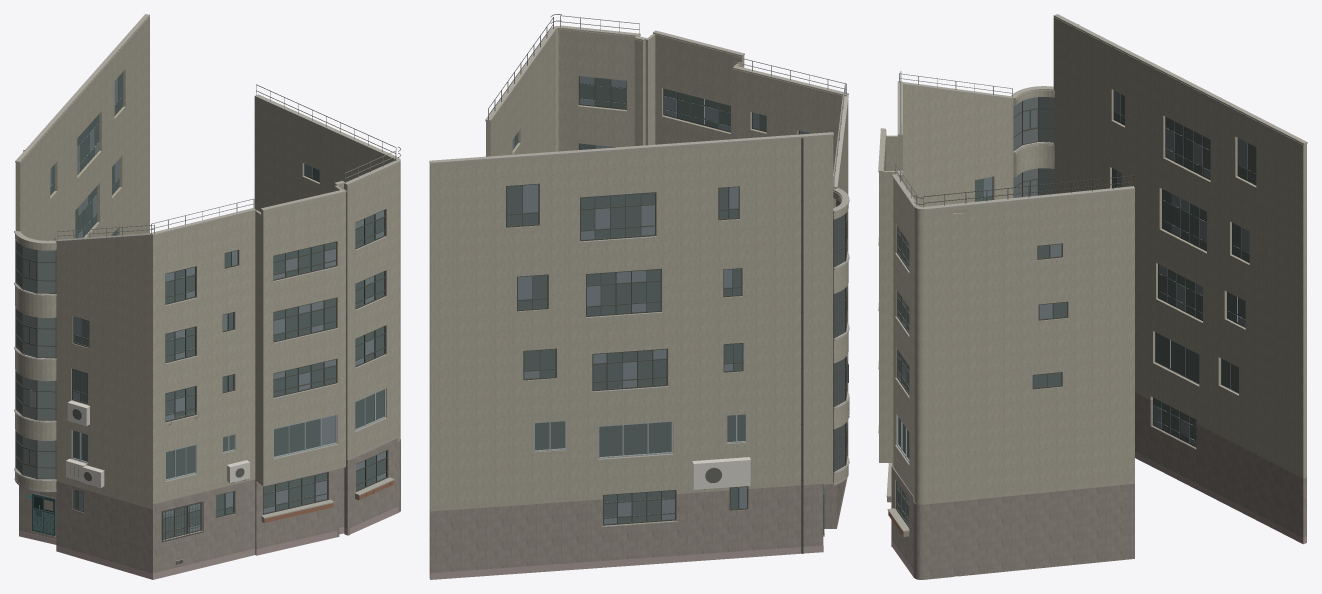
The model's file is map-front-lod.glb.
3 views of the same model, side by side, from view 1: azimuth 30°, elevation 25°; view 2: azimuth 150°, elevation 25°; view 3: azimuth 270°, elevation 25° (orthographic). The views are drawn at different scales.
Visible parts, largest first — view 1: 湖南路280弄2号五层住宅临街窗墙与弧窗; view 2: 湖南路280弄2号五层住宅临街窗墙与弧窗; view 3: 湖南路280弄2号五层住宅临街窗墙与弧窗.
Boxes of the visible parts, <box> form: 湖南路280弄2号五层住宅临街窗墙与弧窗: <box>14,14,400,579</box>; 湖南路280弄2号五层住宅临街窗墙与弧窗: <box>429,14,849,579</box>; 湖南路280弄2号五层住宅临街窗墙与弧窗: <box>878,14,1307,579</box>.
Size of the model in its own units: 17.63 by 19.72 by 19.16.
Materials: 30 (2 with a texture image).
